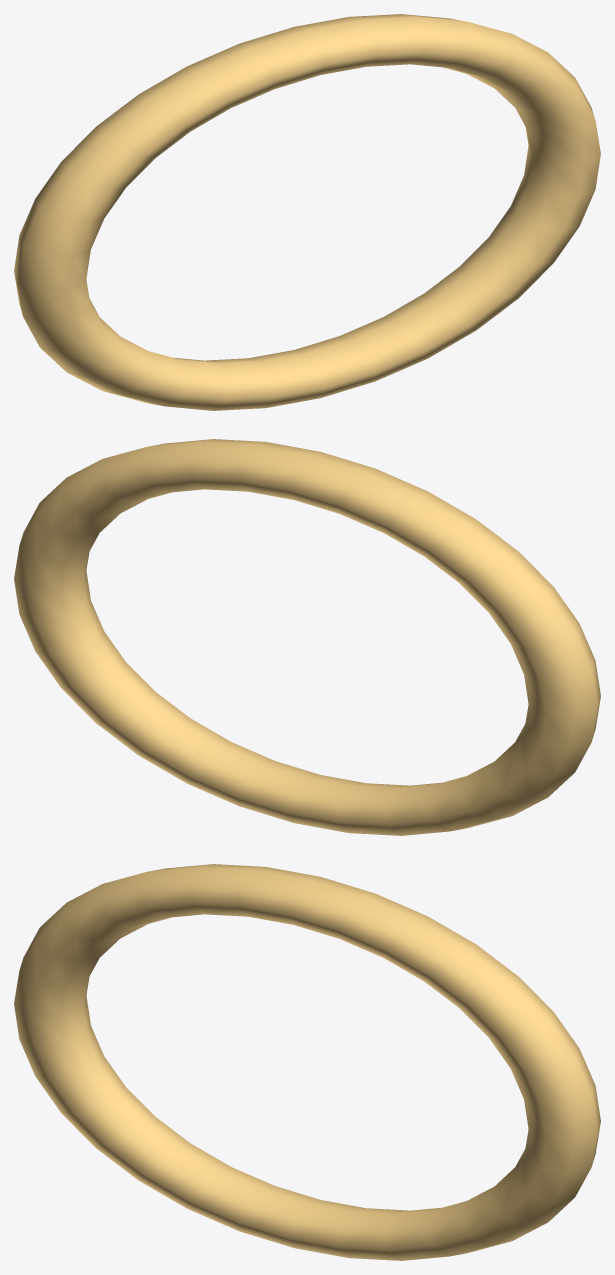
The model's file is bob_left.glb.
3 renders of one model, top to bottom at view 1: azimuth 30°, elevation 25°; view 2: azimuth 150°, elevation 25°; view 3: azimuth 330°, elevation 25°, orthographic.
Parts seen in each view (by area): view 1: bob_left; view 2: bob_left; view 3: bob_left.
Boxes of the visible parts, x1,y1,x2,y2 form: bob_left: [14, 14, 600, 410]; bob_left: [14, 439, 600, 835]; bob_left: [14, 864, 600, 1260].
Bounding box in the file's own units: 0.116 × 0.0696 × 0.013.
